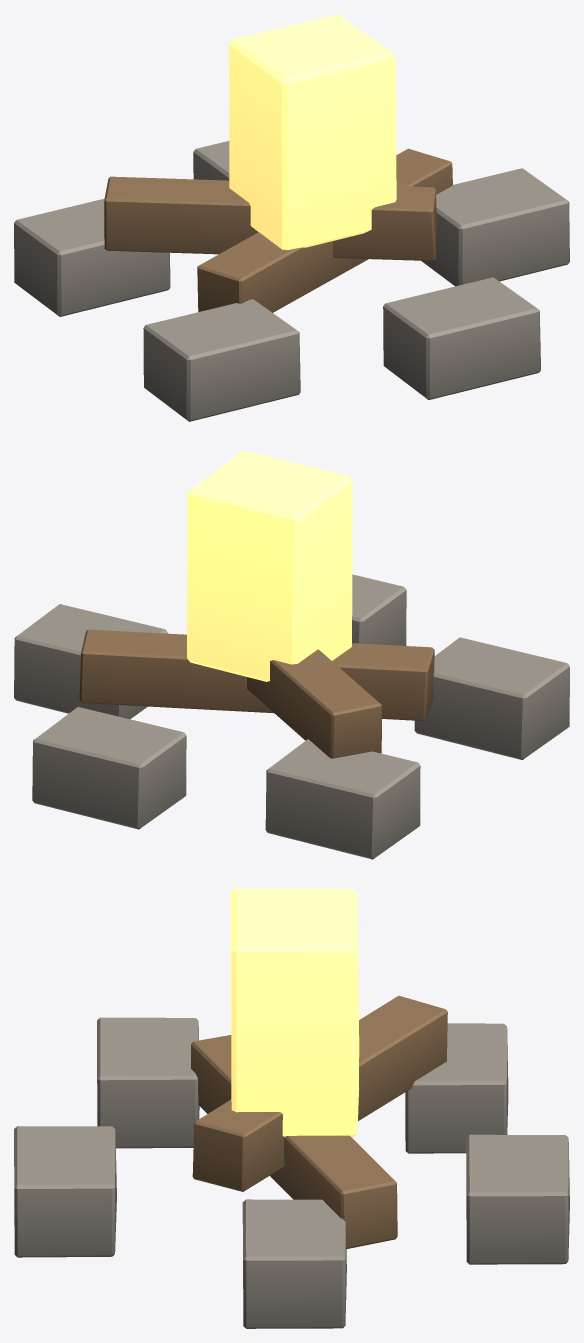
The model's file is campfire.glb.
3 views of the same model, one above another, from view 1: azimuth 30°, elevation 25°; view 2: azimuth 150°, elevation 25°; view 3: azimuth 270°, elevation 25° (orthographic). The views are drawn at different scales.
Visible parts, largest first — view 1: Flame, LogB, Rock4, Rock3, Rock0, Rock2, LogA, Rock1; view 2: Flame, LogA, Rock1, Rock2, Rock3, LogB, Rock0, Rock4; view 3: Flame, LogB, Rock1, Rock4, Rock0, Rock3, LogA, Rock2.
Boxes of the visible parts, left/top/right/bottom form: Flame: left=229, top=14, right=396, bottom=249; LogB: left=104, top=176, right=437, bottom=260; Rock4: left=383, top=277, right=540, bottom=399; Rock3: left=143, top=299, right=300, bottom=421; Rock0: left=421, top=168, right=569, bottom=286; Rock2: left=14, top=198, right=170, bottom=316; LogA: left=197, top=148, right=452, bottom=312; Rock1: left=193, top=141, right=229, bottom=180; Flame: left=187, top=450, right=352, bottom=681; LogA: left=79, top=629, right=434, bottom=720; Rock1: left=32, top=707, right=186, bottom=829; Rock2: left=265, top=739, right=420, bottom=859; Rock3: left=414, top=637, right=569, bottom=759; LogB: left=247, top=649, right=381, bottom=758; Rock0: left=14, top=604, right=167, bottom=719; Rock4: left=352, top=574, right=406, bottom=645; Flame: left=230, top=888, right=359, bottom=1137; LogB: left=192, top=995, right=447, bottom=1191; Rock1: left=466, top=1134, right=569, bottom=1264; Rock4: left=14, top=1126, right=116, bottom=1257; Rock0: left=242, top=1199, right=346, bottom=1328; Rock3: left=97, top=1017, right=199, bottom=1148; LogA: left=191, top=1035, right=397, bottom=1249; Rock2: left=405, top=1023, right=508, bottom=1153.
Bounding box in the file's own units: 1.08 × 0.5952 × 1.05.
